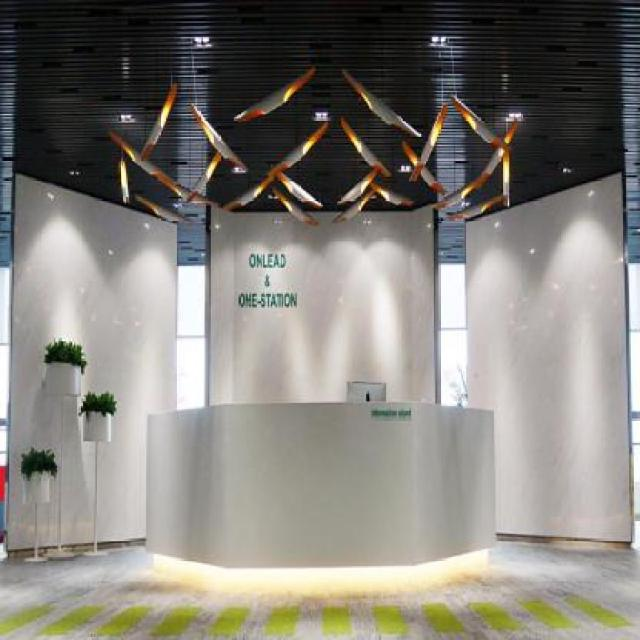frontdesk: (143, 370, 499, 582)
